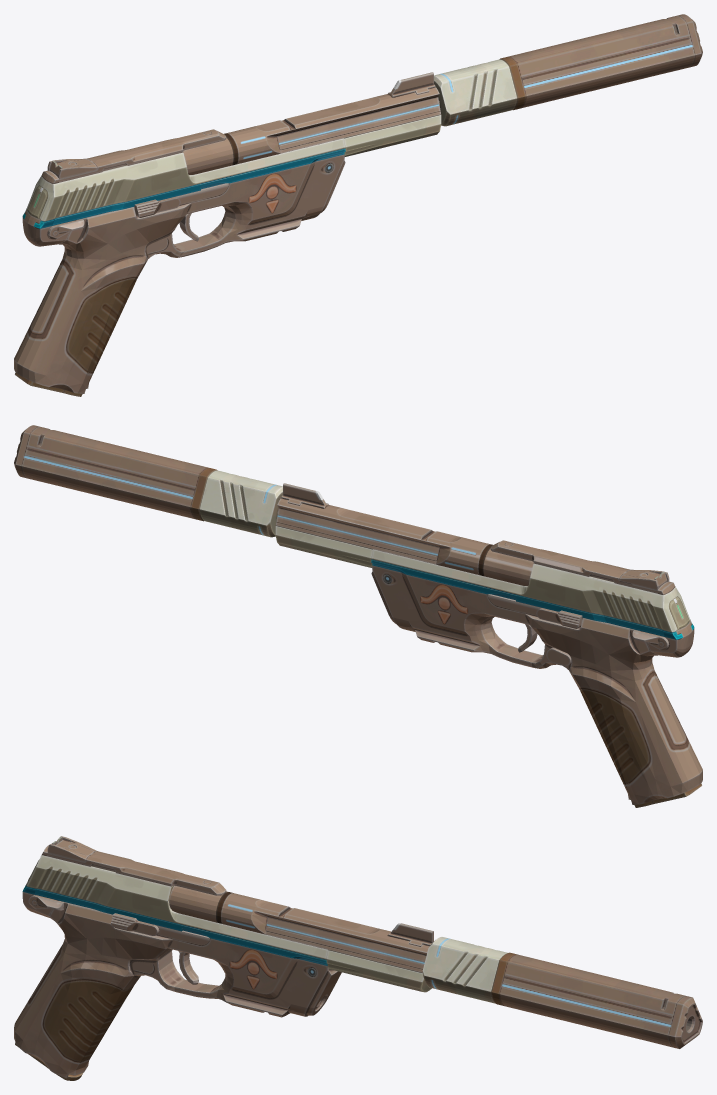
Rendered from Ghost.fbx.
3 renders of one model, top to bottom at view 1: azimuth 30°, elevation 25°; view 2: azimuth 150°, elevation 25°; view 3: azimuth 330°, elevation 25°, orthographic.
Visible parts, largest first — view 1: GN_Luger_S0_Skelmesh.mo, GN_Silencer_S0_Staticmesh.mo; view 2: GN_Luger_S0_Skelmesh.mo, GN_Silencer_S0_Staticmesh.mo; view 3: GN_Luger_S0_Skelmesh.mo, GN_Silencer_S0_Staticmesh.mo.
Boxes of the visible parts, <box> form: GN_Luger_S0_Skelmesh.mo: <box>14,72,441,393</box>; GN_Silencer_S0_Staticmesh.mo: <box>434,14,702,126</box>; GN_Luger_S0_Skelmesh.mo: <box>275,483,702,804</box>; GN_Silencer_S0_Staticmesh.mo: <box>14,425,282,537</box>; GN_Luger_S0_Skelmesh.mo: <box>14,836,433,1078</box>; GN_Silencer_S0_Staticmesh.mo: <box>422,937,702,1048</box>.
Size of the model in its own units: 576 by 191 by 41.13.
